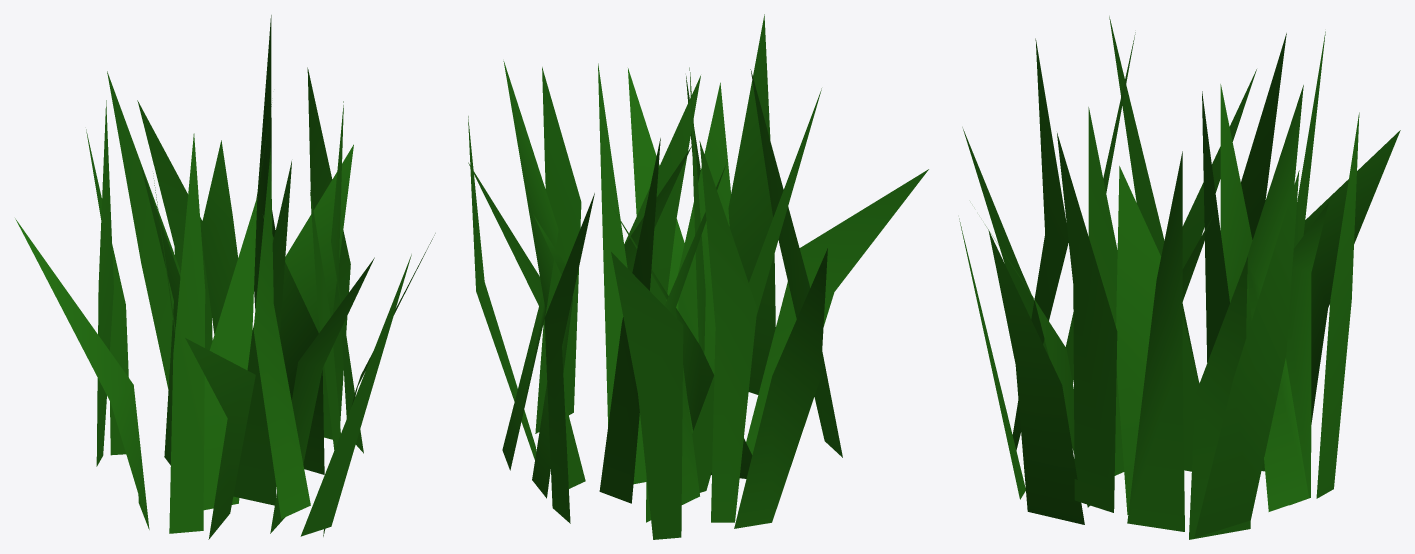
File: Fbx_Grass.FBX
The picture shows the model from 3 angles, left to right: view 1: azimuth 30°, elevation 25°; view 2: azimuth 150°, elevation 25°; view 3: azimuth 270°, elevation 25°; orthographic projection. The views are drawn at different scales.
Parts seen in each view (by area): view 1: Grass002; view 2: Grass002; view 3: Grass002.
Part boxes in pixels (box(x1,y1,x2,y2)): Grass002: box(15, 15, 435, 539); Grass002: box(468, 14, 928, 539); Grass002: box(959, 16, 1400, 539).
Size of the model in its own units: 22.33 by 27.13 by 22.8.
